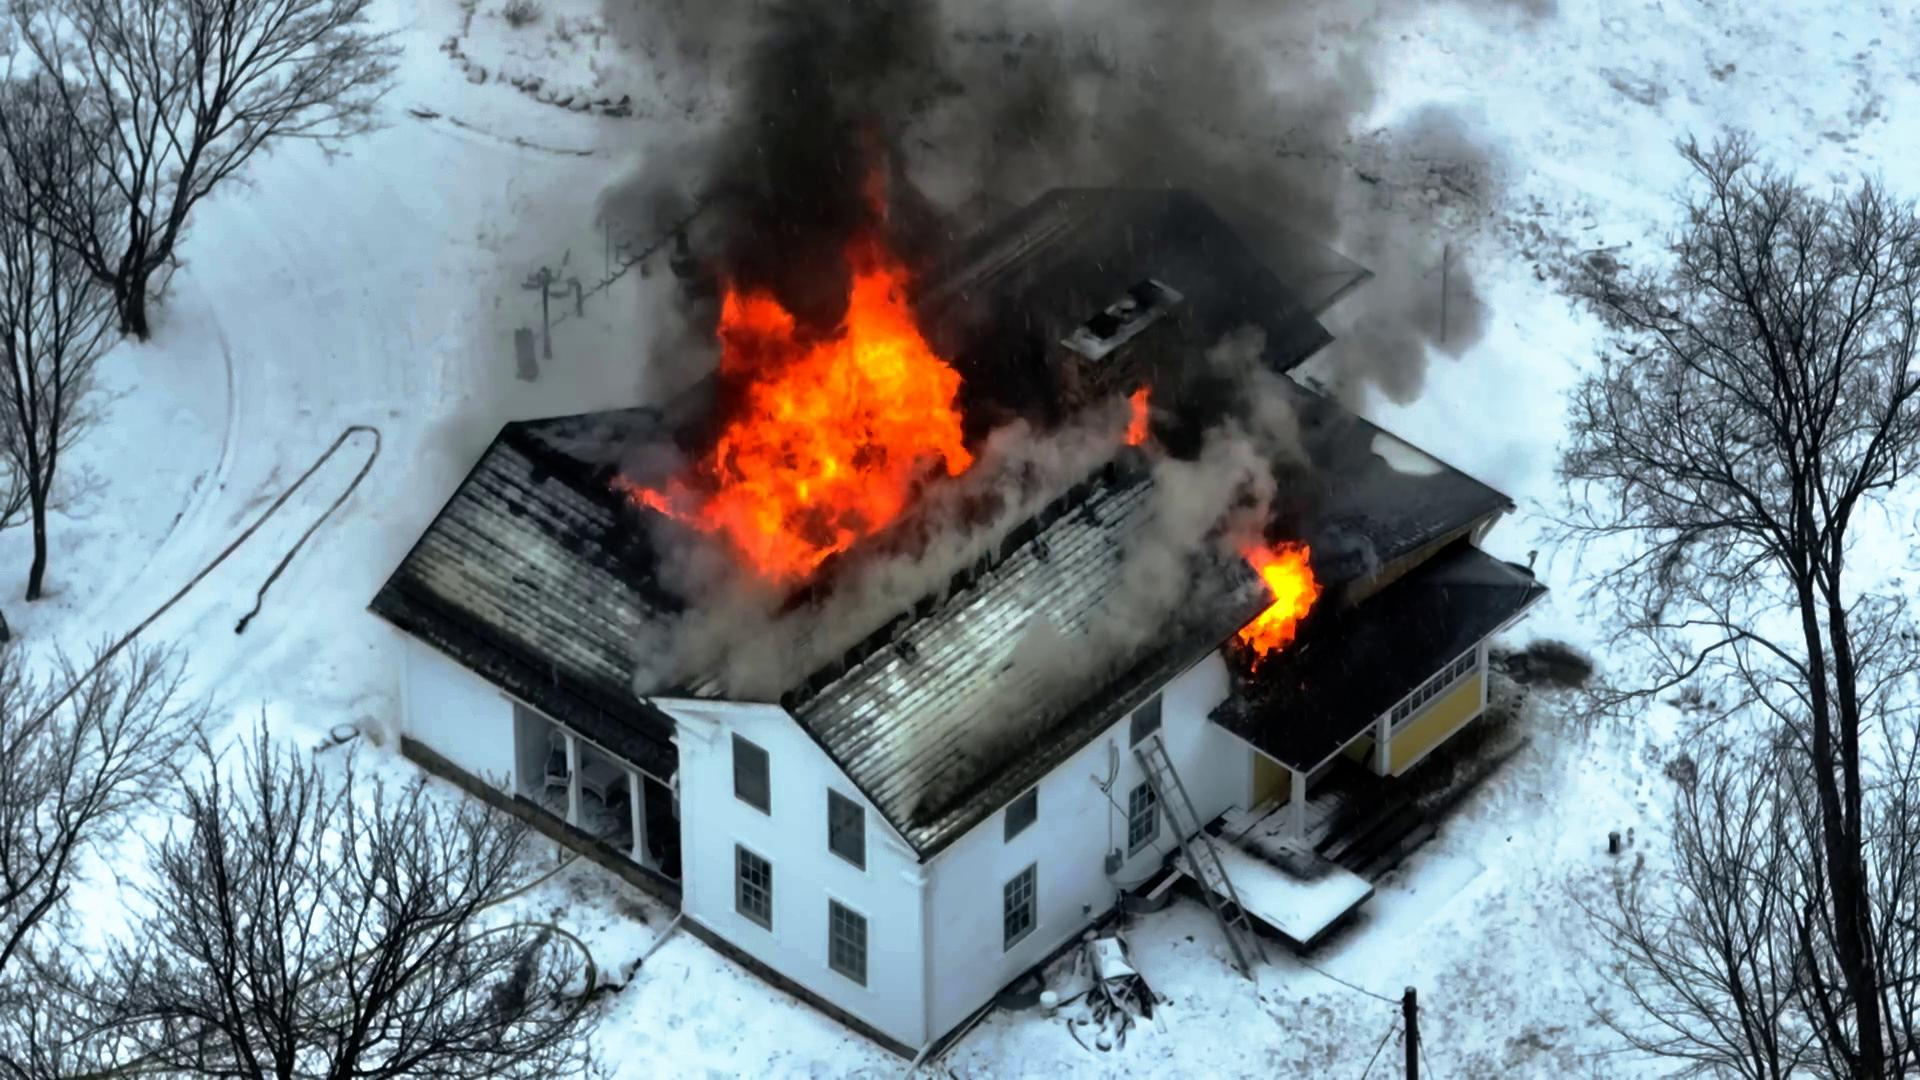fire: (709, 284, 993, 444), (636, 465, 885, 595), (839, 170, 943, 455), (1233, 553, 1337, 680)
smoke: (669, 0, 869, 262)
